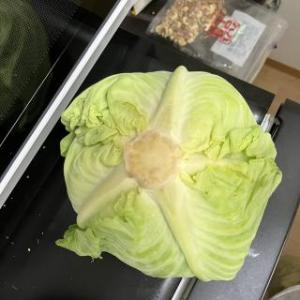cabbage: (55, 65, 285, 285)
